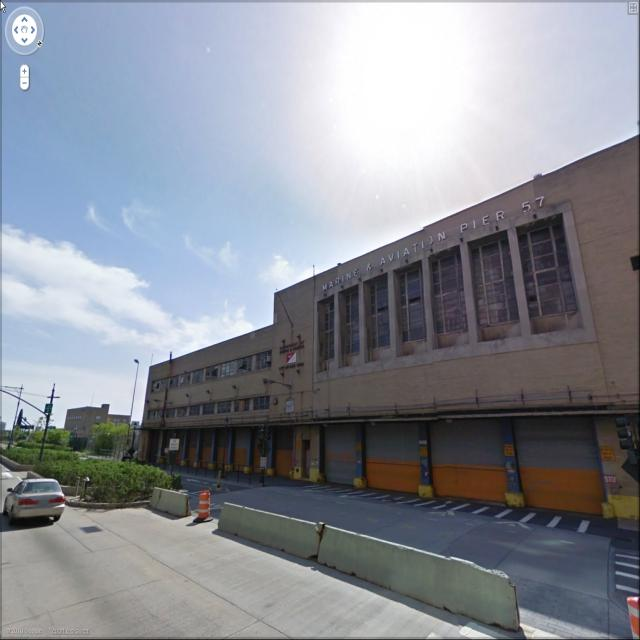b_1: (125, 132, 639, 476)
b_2: (64, 393, 131, 463)
